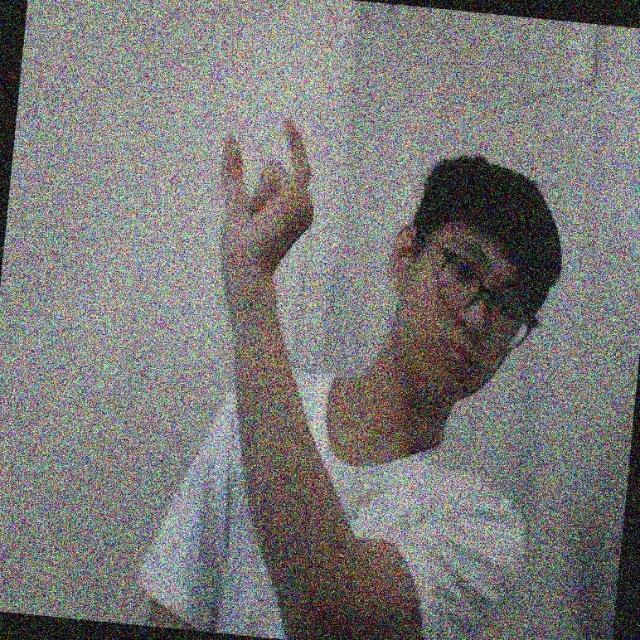U: (196, 104, 326, 239)
